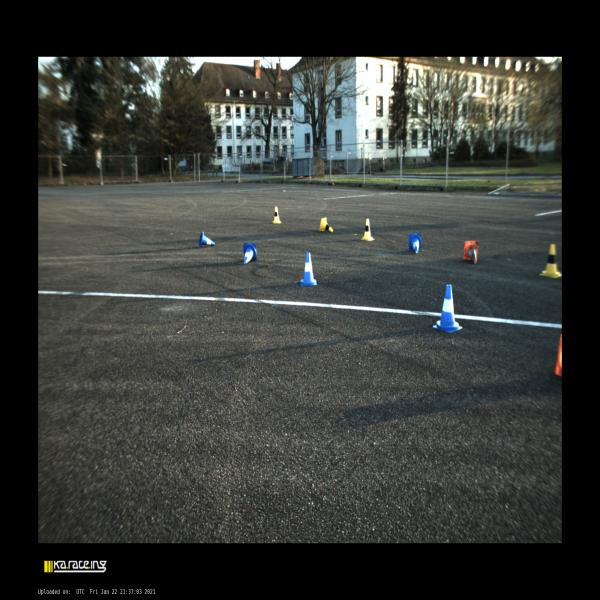blue_cone: (432, 284, 462, 333), (301, 252, 317, 286), (198, 231, 215, 248), (244, 243, 257, 263), (409, 234, 421, 254)
orange_cone: (463, 241, 478, 264)
yellow_cone: (539, 244, 562, 278), (361, 218, 374, 241), (319, 218, 333, 232), (273, 207, 281, 224)
